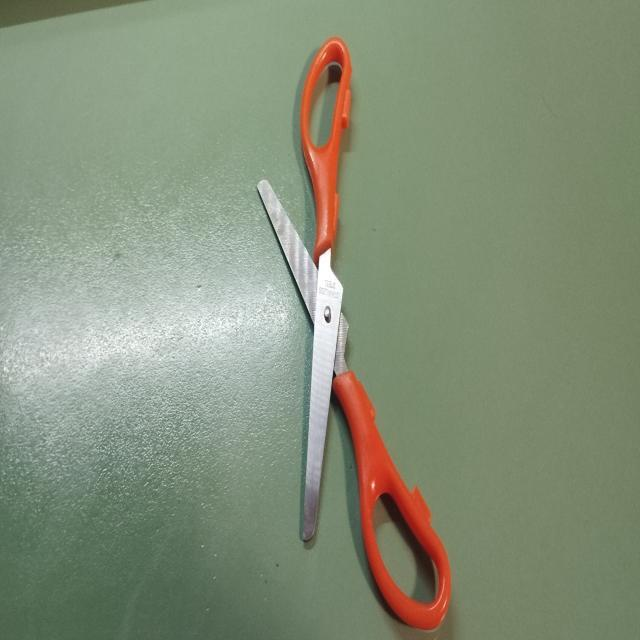tesoura: (254, 28, 453, 632)
